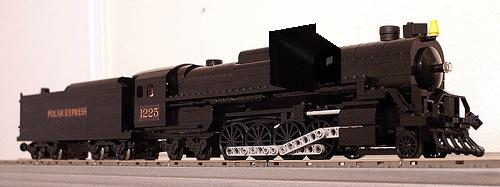tampered: (270, 24, 341, 92)
